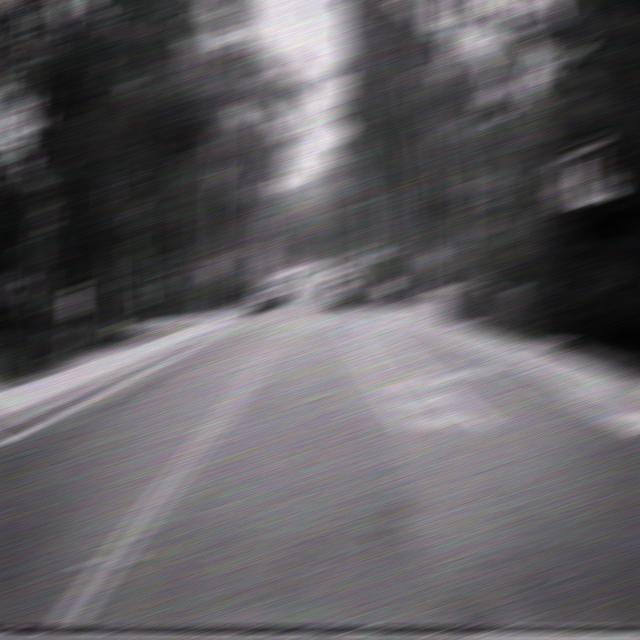stop_sign: (421, 245, 442, 266)
